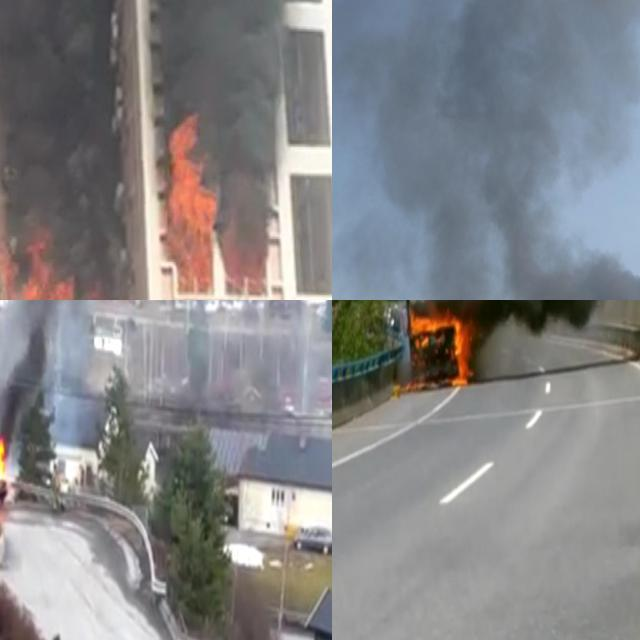fire: (163, 113, 216, 282), (0, 238, 115, 300), (398, 306, 471, 393), (222, 235, 268, 292)
smoke: (332, 0, 640, 300), (0, 0, 122, 262), (161, 0, 290, 217), (0, 300, 127, 447)
